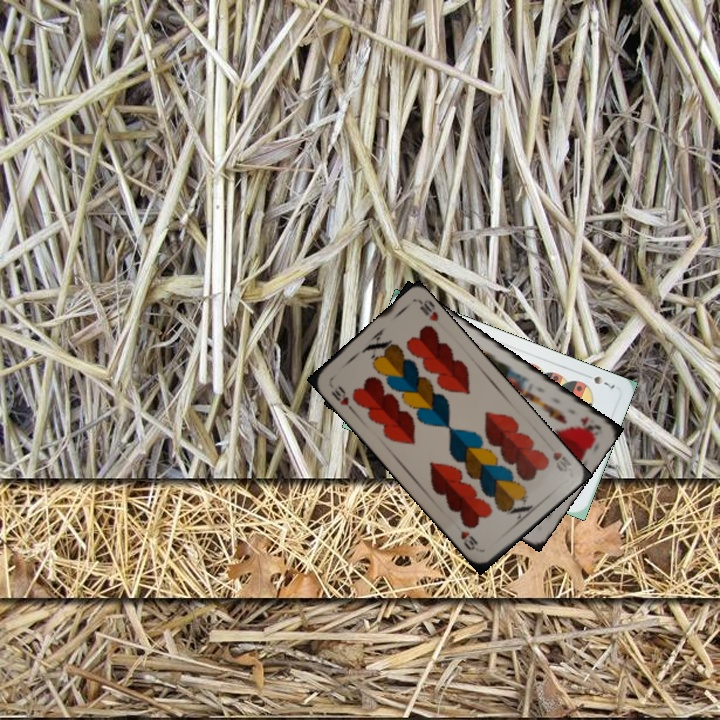H10: (327, 382, 356, 414), (549, 448, 574, 475)
HK: (576, 412, 603, 436)
S7: (580, 370, 618, 391)
